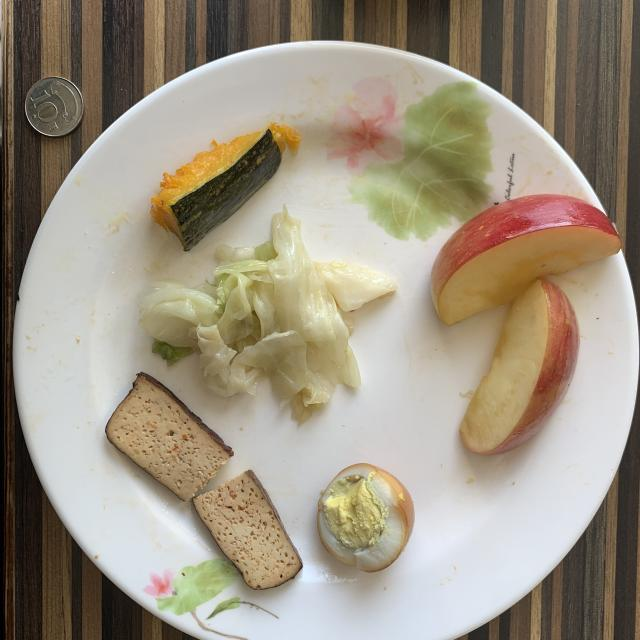apple -sliced-: (431, 195, 621, 455)
cabbage: (140, 209, 398, 421)
coin: (25, 76, 84, 136)
firm tofu: (105, 372, 302, 589)
pumpkin: (150, 124, 300, 251)
soy egg: (318, 464, 414, 572)
